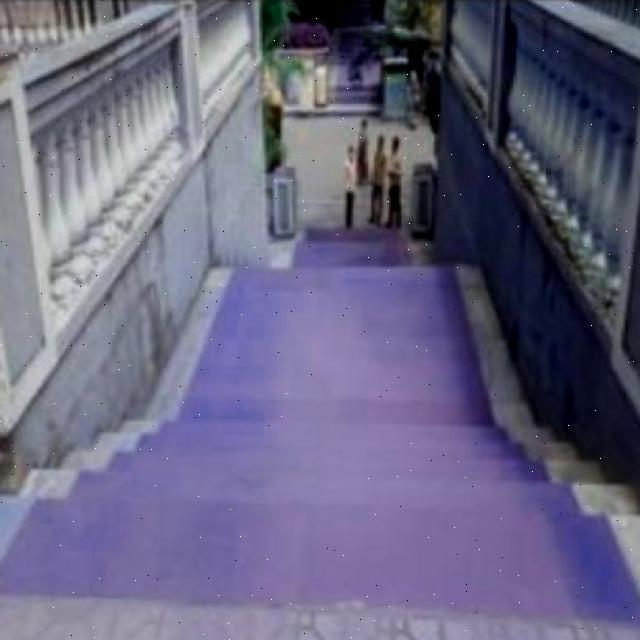stair: (134, 386, 528, 561)
